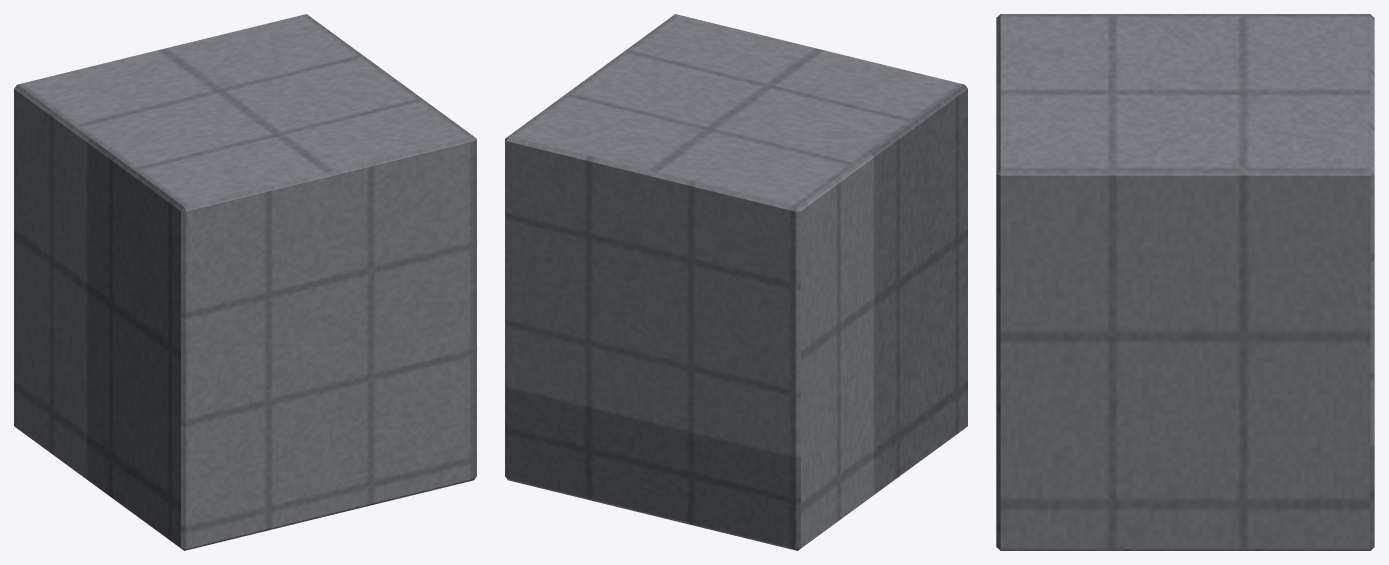
File: wall.glb
3 views of the same model, side by side, from view 1: azimuth 30°, elevation 25°; view 2: azimuth 150°, elevation 25°; view 3: azimuth 270°, elevation 25° (orthographic). The views are drawn at different scales.
Parts seen in each view (by area): view 1: wall; view 2: wall; view 3: wall.
Boxes of the visible parts, x1,y1,x2,y2 form: wall: (14,14,476,550); wall: (505,14,967,550); wall: (996,14,1374,550).
Size of the model in its own units: 0.9 by 1 by 0.9.
1 material, 1 textured.
